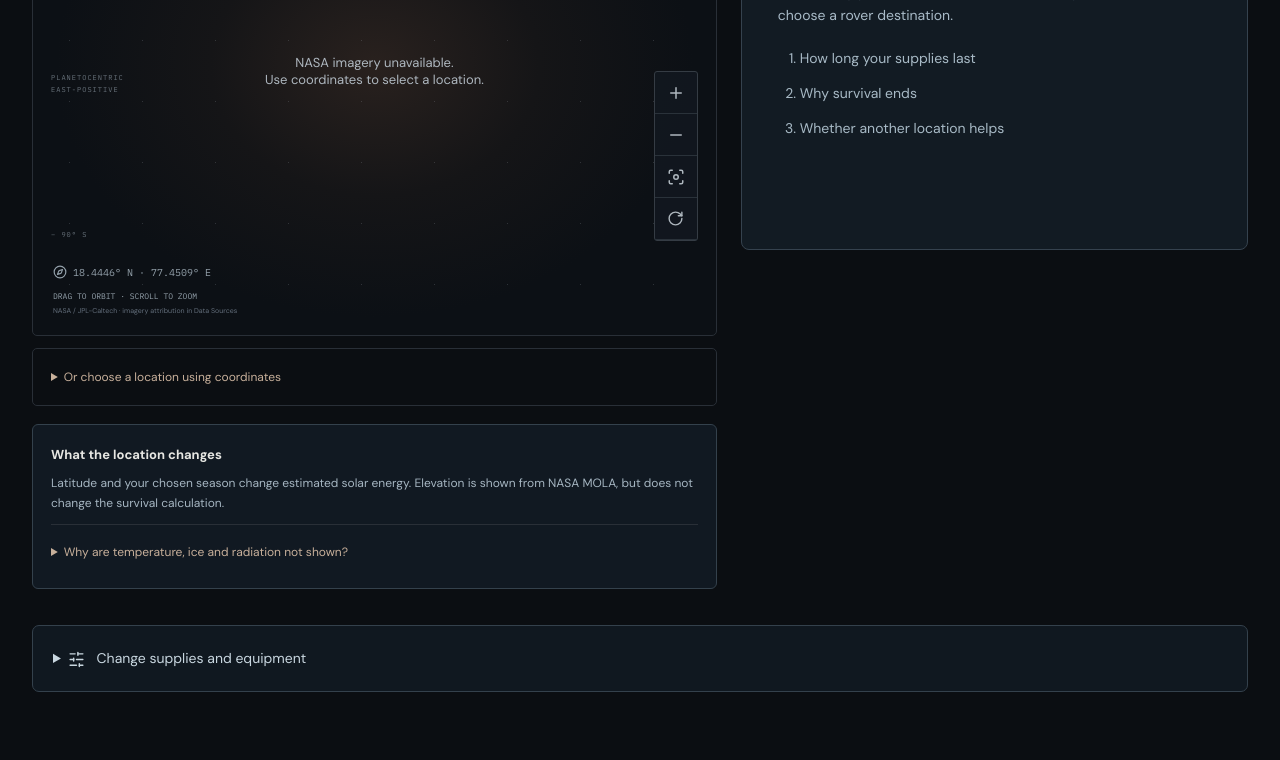
Test case: accepts arbitrary typed coordinates and updates immediately without a route
The width and height of the screenshot is (1280, 760).
(page scrolled)
Click the heading "Or choose a location using coordinates". click: (172,378)
box: [64,370,281,386]
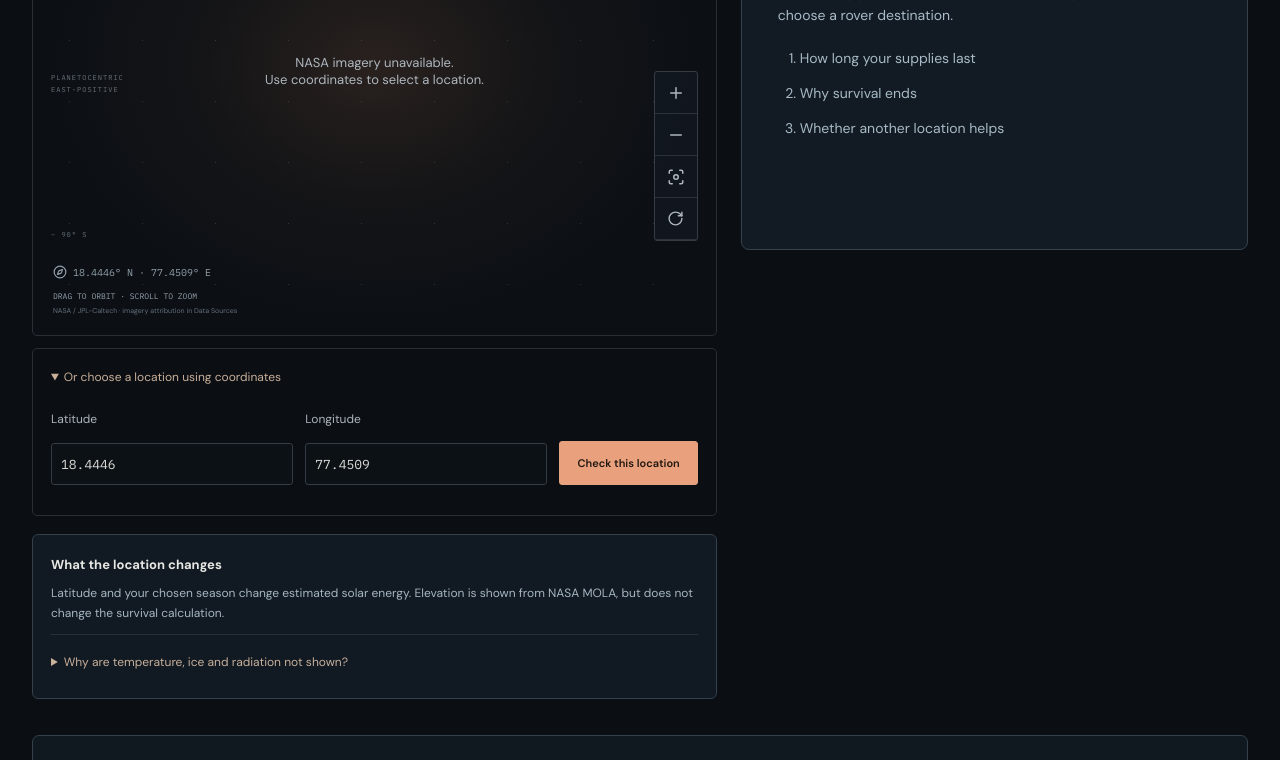
Replace the text in the number field labelled "Latitude" with "-33.2". click: (172,464)
box: [51,444,293,486]
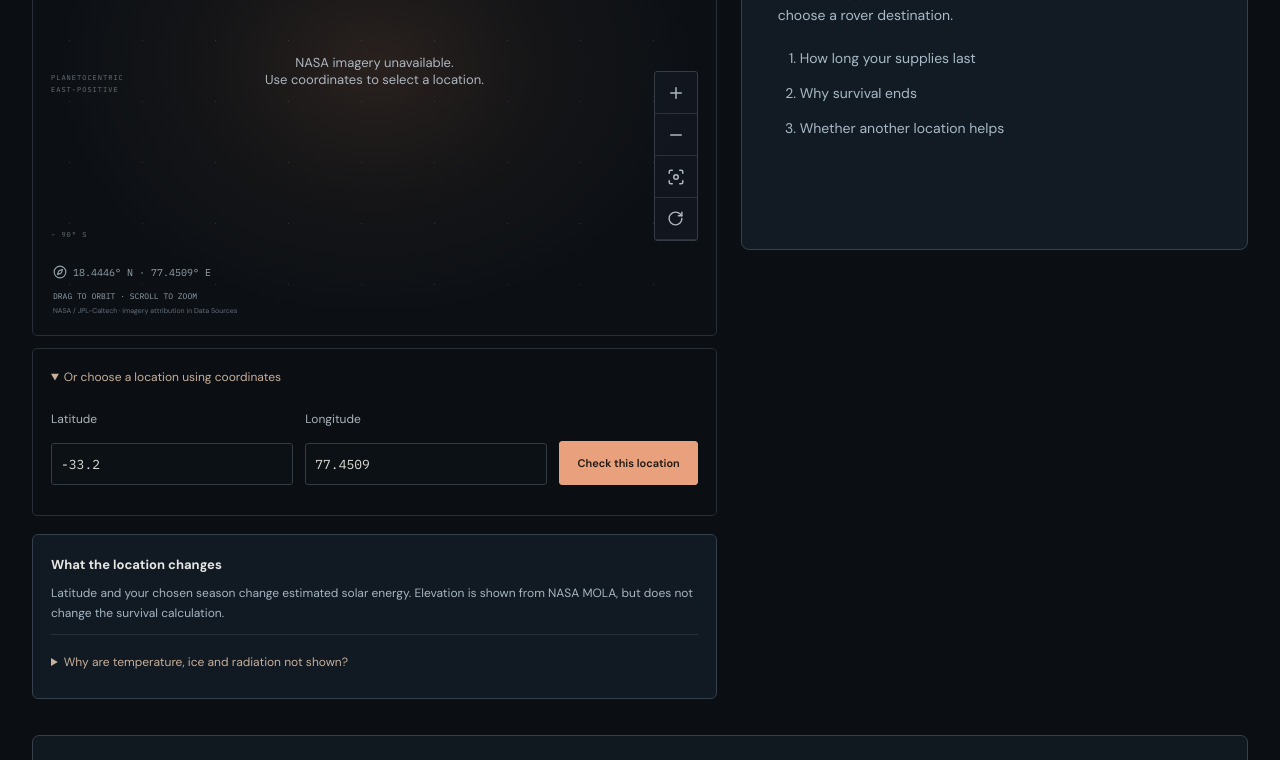
Replace the text in the number field labelled "Longitude" with "-111.4". click: (426,464)
box: [305,444,548,486]
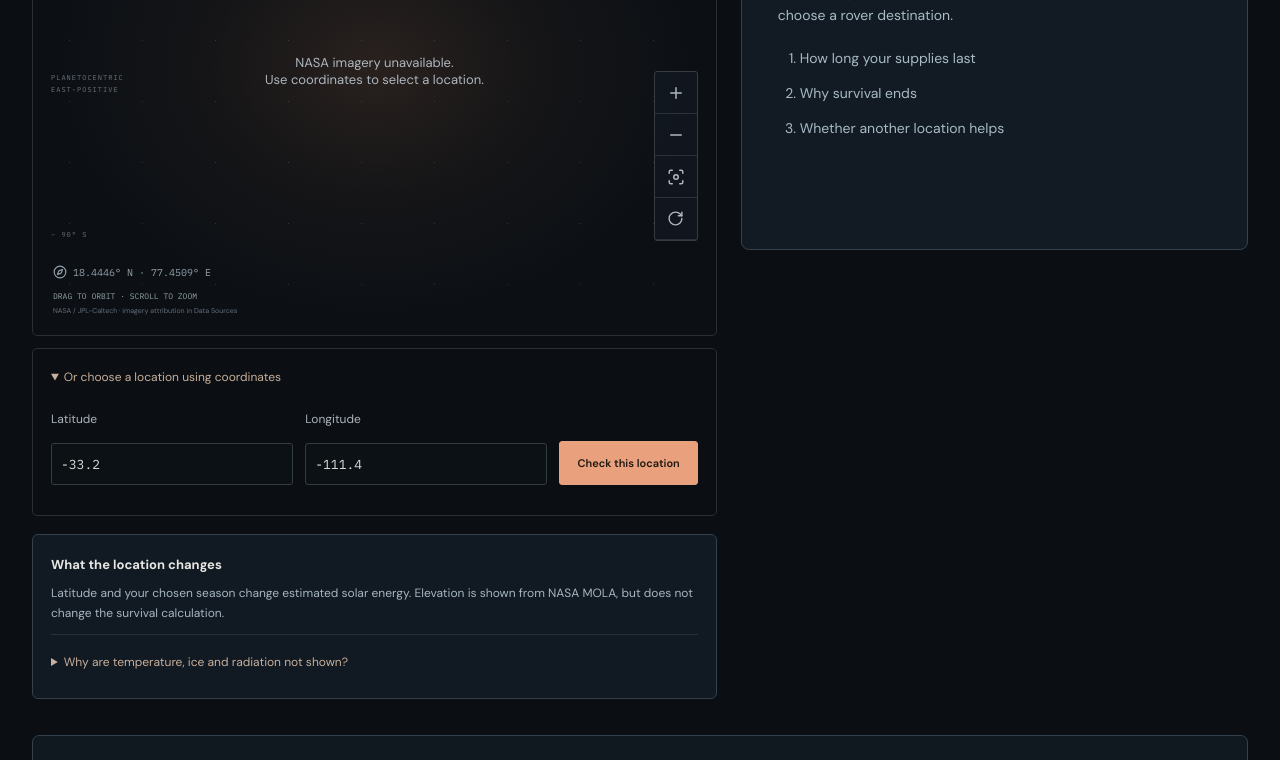
Click the button "Check this location". click: (629,464)
box: [560,442,698,486]
(page scrolled)
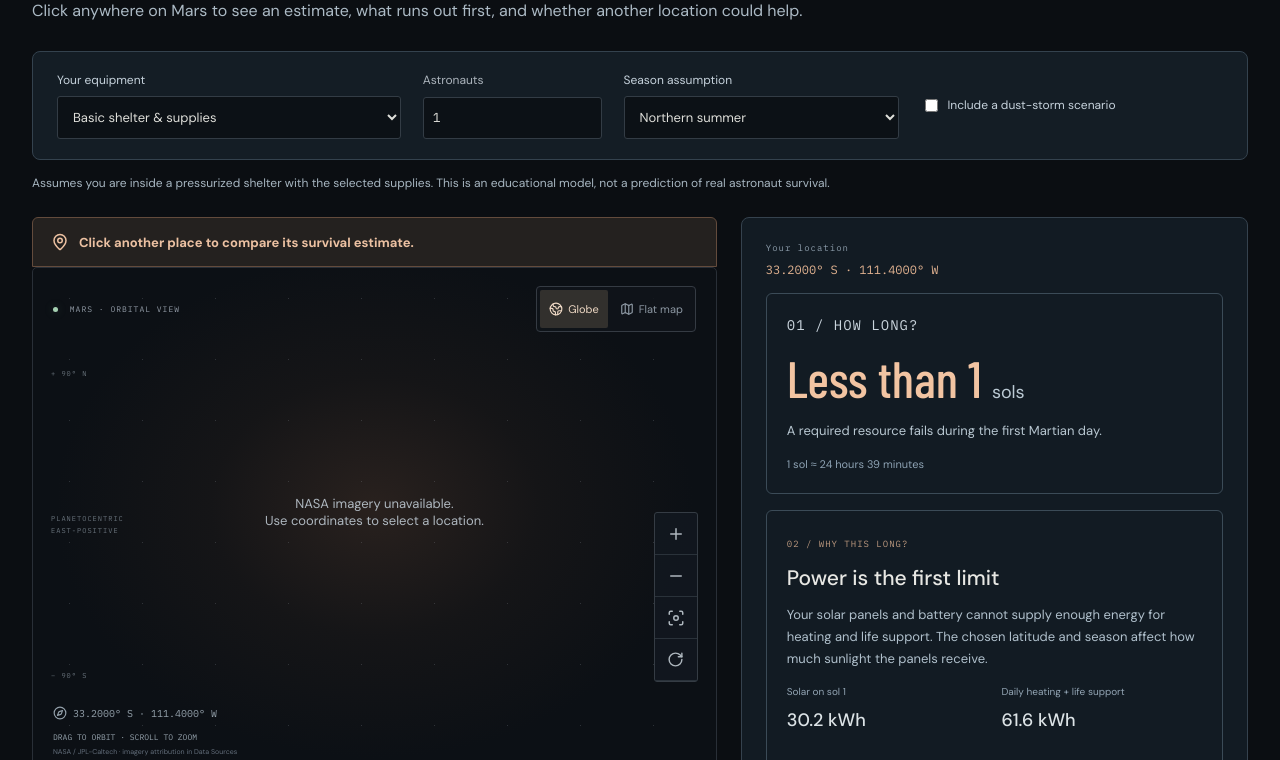
Result: the element with test id "survival-duration" showing "Less than 1 sols" is shown at [787,348,1025,408]
